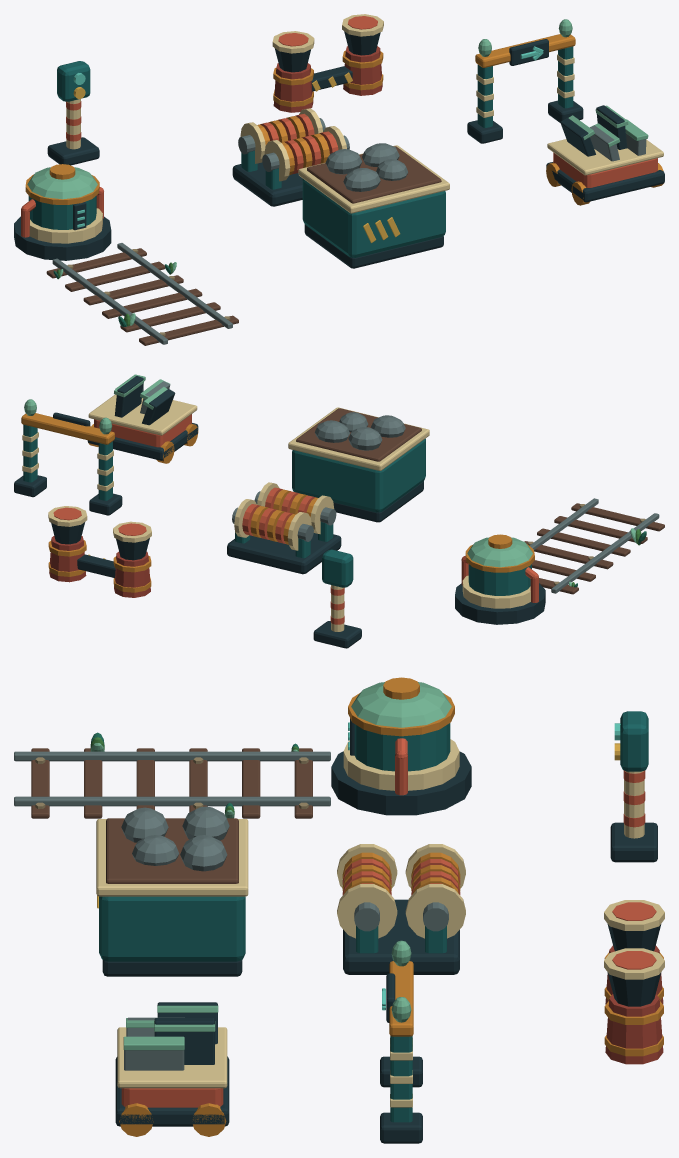
Rendered from PL_RailSalvageKit.glb.
3 renders of one model, top to bottom at view 1: azimuth 30°, elevation 25°; view 2: azimuth 150°, elevation 25°; view 3: azimuth 270°, elevation 25°, orthographic. The views are drawn at different scales.
Parts seen in each view (by area): view 1: Cover_Surface, Scrap_Surface, Fuel_Surface, Track_Surface, Coil_Surface, ForgeGate_Surface, Exit_Surface, Signal_Surface; view 2: Cover_Surface, Coil_Surface, Fuel_Surface, Scrap_Surface, ForgeGate_Surface, Track_Surface, Exit_Surface, Signal_Surface; view 3: Cover_Surface, Fuel_Surface, Coil_Surface, Scrap_Surface, Track_Surface, ForgeGate_Surface, Exit_Surface, Signal_Surface.
Boxes of the visible parts, x1=… form: Cover_Surface: x1=298, y1=143, x2=449, y2=268; Scrap_Surface: x1=546, y1=105, x2=664, y2=205; Fuel_Surface: x1=14, y1=164, x2=111, y2=260; Track_Surface: x1=46, y1=243, x2=238, y2=345; Coil_Surface: x1=232, y1=108, x2=349, y2=206; ForgeGate_Surface: x1=272, y1=14, x2=383, y2=112; Exit_Surface: x1=467, y1=19, x2=583, y2=143; Signal_Surface: x1=47, y1=61, x2=99, y2=165; Cover_Surface: x1=288, y1=407, x2=429, y2=522; Coil_Surface: x1=227, y1=482, x2=341, y2=574; Fuel_Surface: x1=455, y1=534, x2=545, y2=624; Scrap_Surface: x1=87, y1=374, x2=198, y2=463; ForgeGate_Surface: x1=48, y1=506, x2=151, y2=597; Track_Surface: x1=524, y1=498, x2=664, y2=594; Exit_Surface: x1=14, y1=399, x2=122, y2=515; Signal_Surface: x1=313, y1=549, x2=361, y2=648; Cover_Surface: x1=96, y1=806, x2=248, y2=976; Fuel_Surface: x1=331, y1=677, x2=471, y2=815; Coil_Surface: x1=337, y1=844, x2=465, y2=974; Scrap_Surface: x1=115, y1=1002, x2=229, y2=1136; Track_Surface: x1=14, y1=732, x2=330, y2=818; ForgeGate_Surface: x1=604, y1=900, x2=664, y2=1064; Exit_Surface: x1=380, y1=940, x2=422, y2=1143; Signal_Surface: x1=610, y1=711, x2=657, y2=862.
Size of the model in its own units: 12.2 by 2.08 by 8.53.
